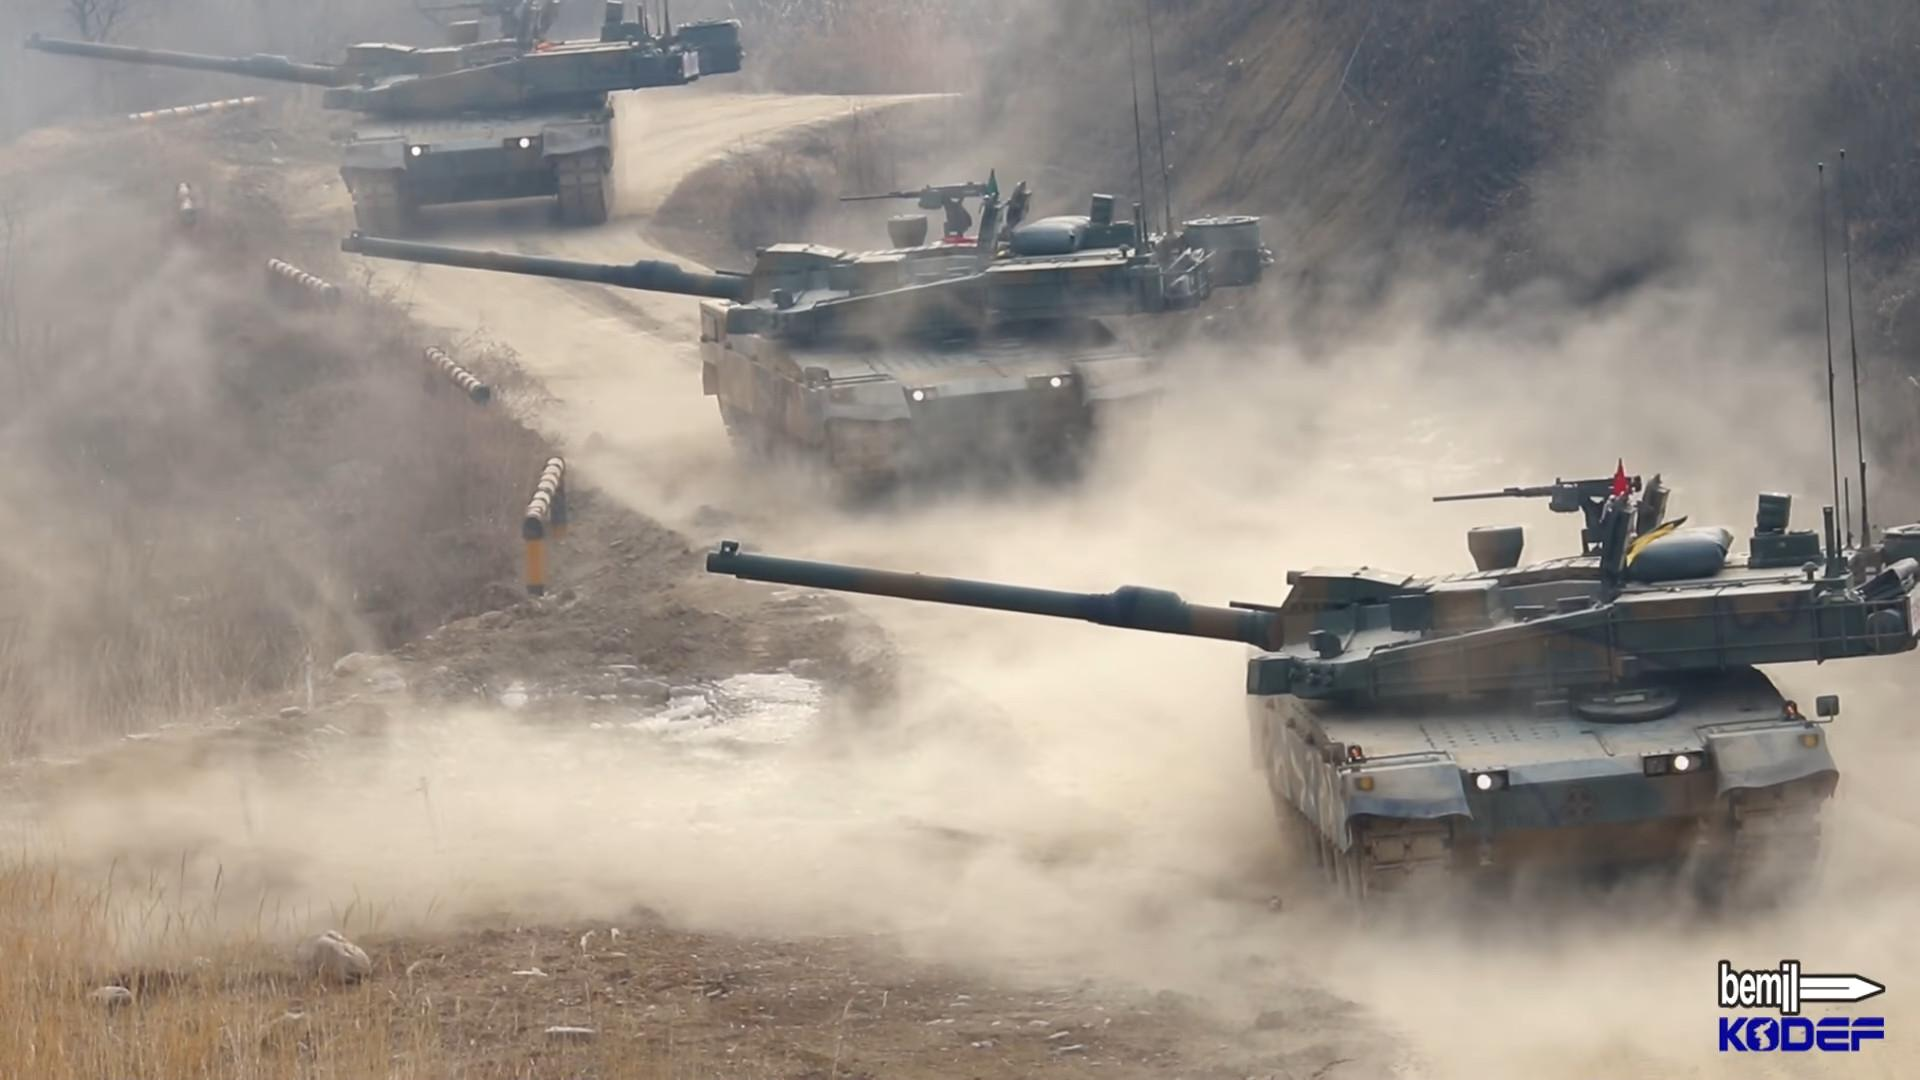tank: (705, 475, 1919, 942), (340, 181, 1265, 504), (22, 0, 744, 237)
